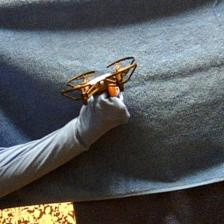drone: (61, 56, 137, 104)
